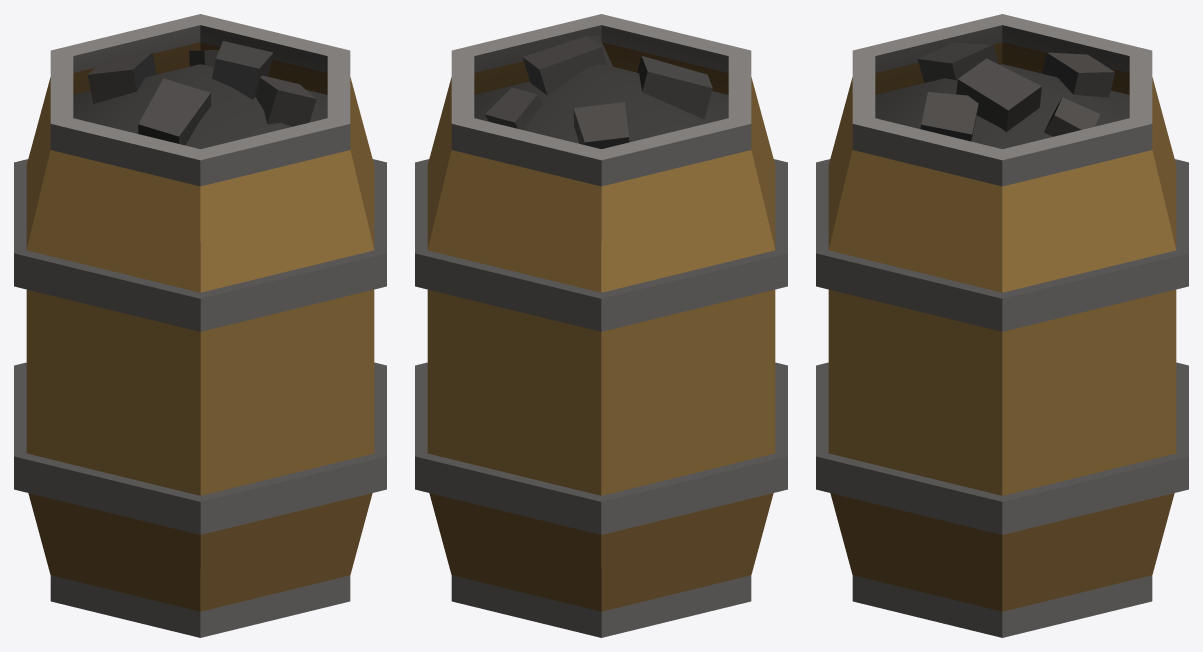
File: Barrel_Coal.gltf
3 views of the same model, side by side, from view 1: azimuth 30°, elevation 25°; view 2: azimuth 150°, elevation 25°; view 3: azimuth 270°, elevation 25° (orthographic).
Parts seen in each view (by area): view 1: SF_Prop_Barrel_Coal_01; view 2: SF_Prop_Barrel_Coal_01; view 3: SF_Prop_Barrel_Coal_01.
Boxes of the visible parts, x1,y1,x2,y2 form: SF_Prop_Barrel_Coal_01: (14,14,386,637); SF_Prop_Barrel_Coal_01: (415,14,787,637); SF_Prop_Barrel_Coal_01: (816,14,1188,637).
Size of the model in its own units: 0.0166 by 0.0217 by 0.0144.
Materials: 1 (1 with a texture image).
